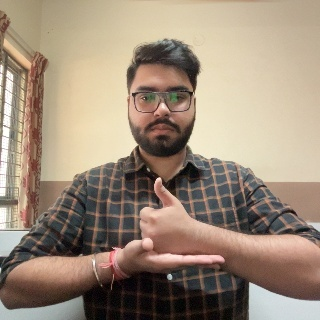Face: (126, 47, 196, 154)
Help: (118, 178, 228, 273)
